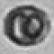correct: (2, 4, 52, 50)
